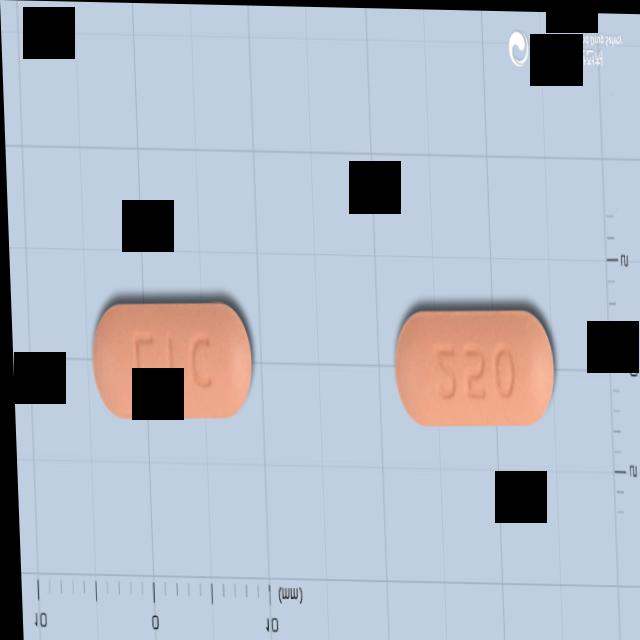Lectacin: (391, 305, 554, 429), (88, 299, 252, 422)
